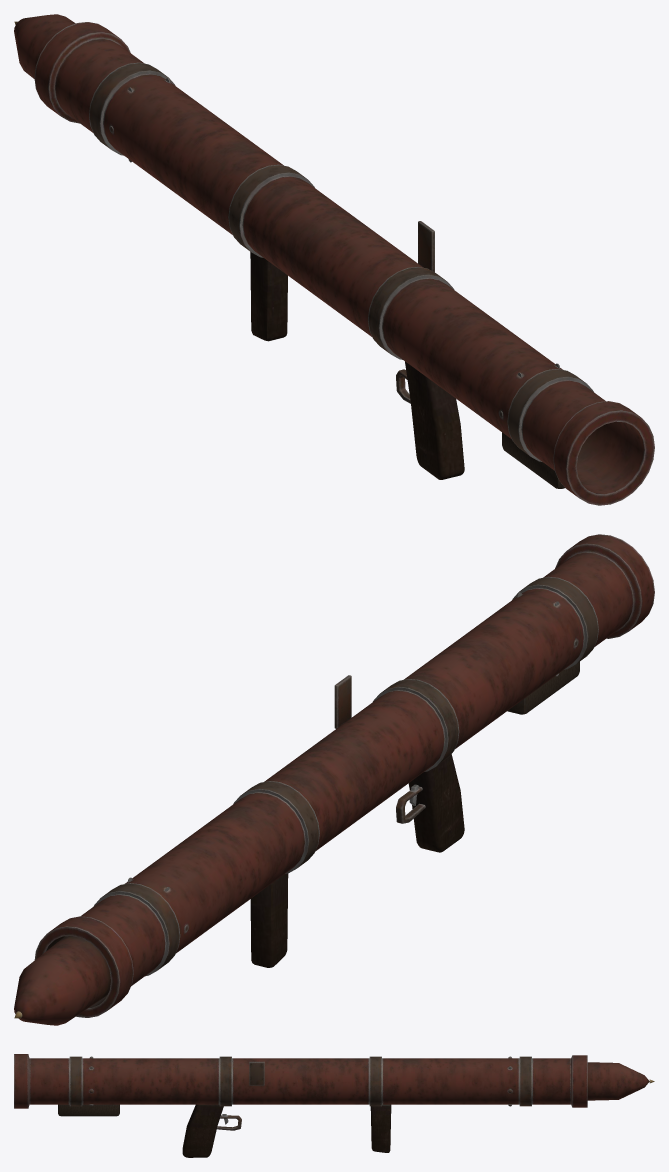
File: gunner_rocket_launcher.glb
3 views of the same model, one above another, from view 1: azimuth 30°, elevation 25°; view 2: azimuth 150°, elevation 25°; view 3: azimuth 270°, elevation 25° (orthographic). The views are drawn at different scales.
Visible parts, largest first — view 1: gunner_rocket_launcher; view 2: gunner_rocket_launcher; view 3: gunner_rocket_launcher.
Part boxes in pixels (left/top/right/bottom): gunner_rocket_launcher: left=14, top=14, right=654, bottom=505; gunner_rocket_launcher: left=14, top=534, right=654, bottom=1025; gunner_rocket_launcher: left=14, top=1054, right=654, bottom=1157.
Size of the model in its own units: 0.106 by 0.223 by 1.24.
Materials: 1 (1 with a texture image).
